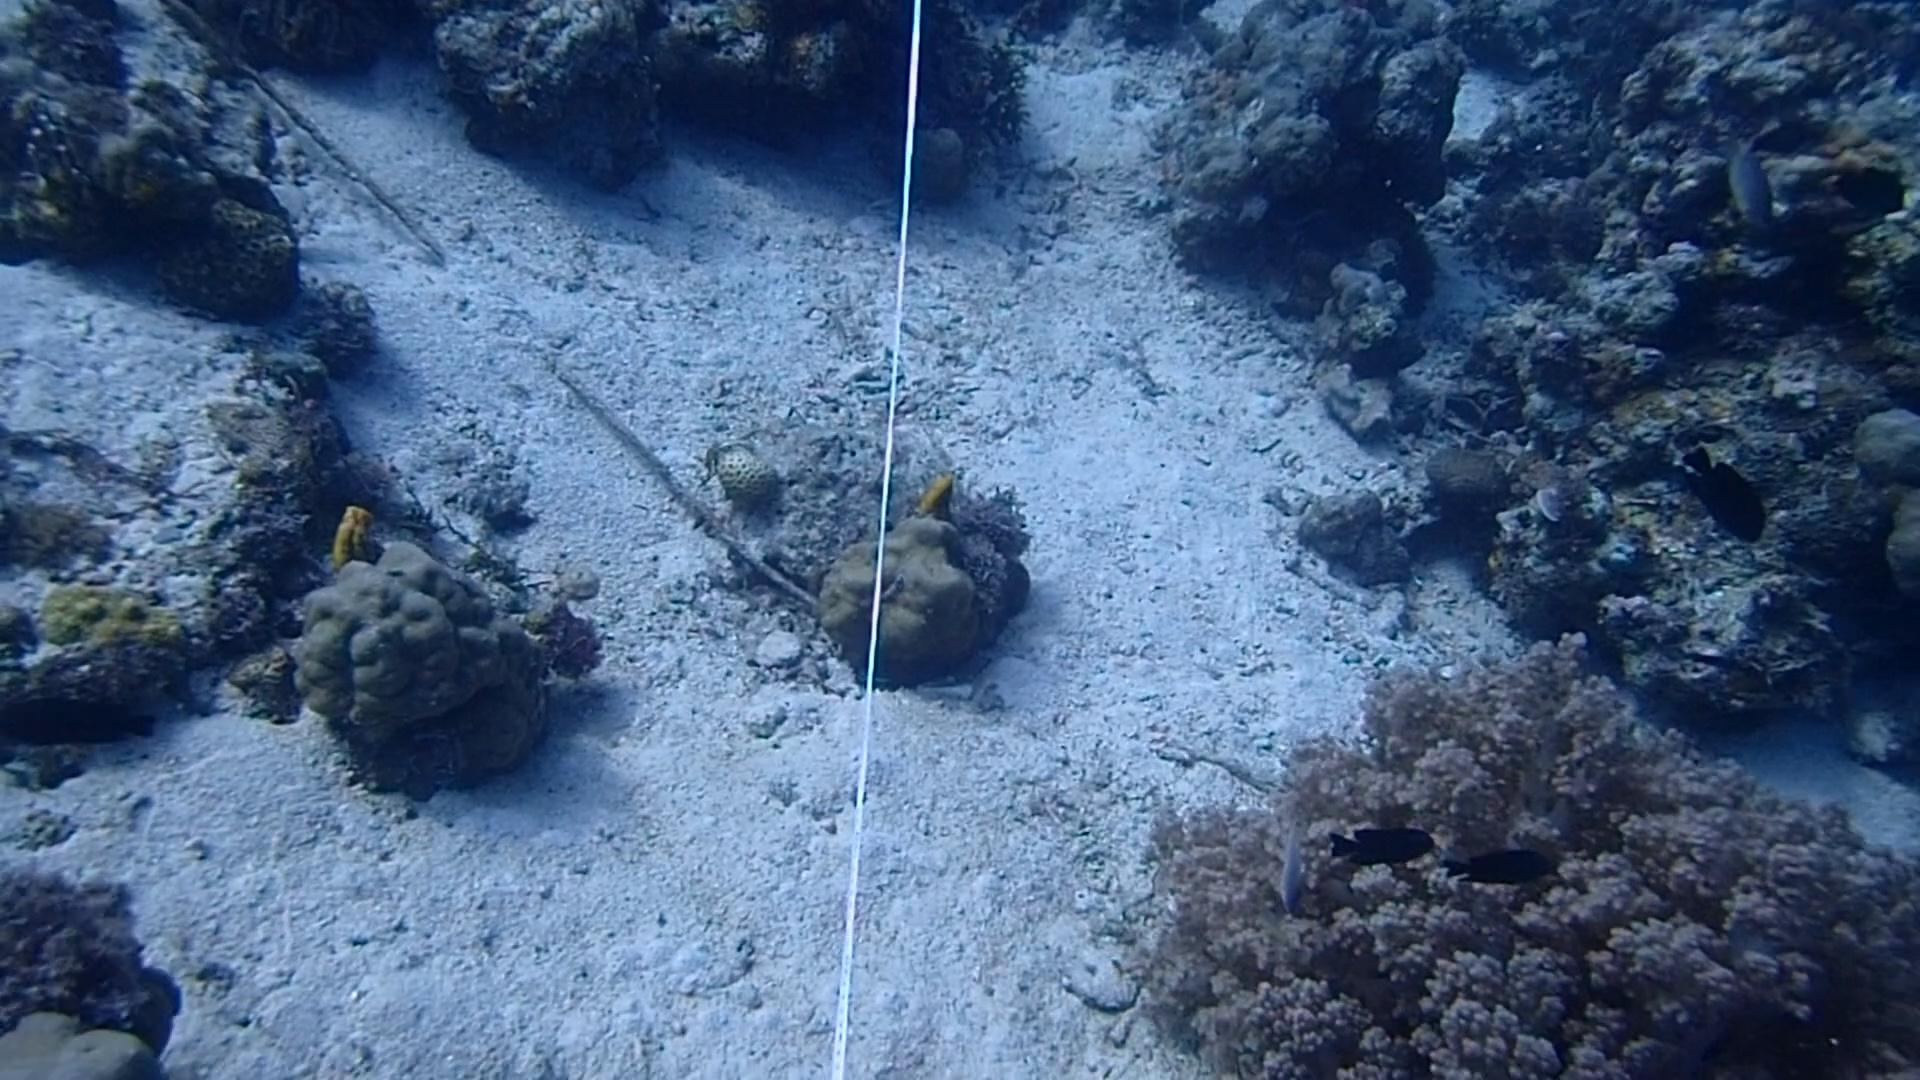Dark Fish: (1672, 434, 1770, 551), (0, 692, 165, 756), (1327, 812, 1437, 880), (1445, 836, 1556, 901), (1829, 160, 1917, 222)
Light Fish: (1709, 123, 1789, 235), (1251, 810, 1316, 914)
